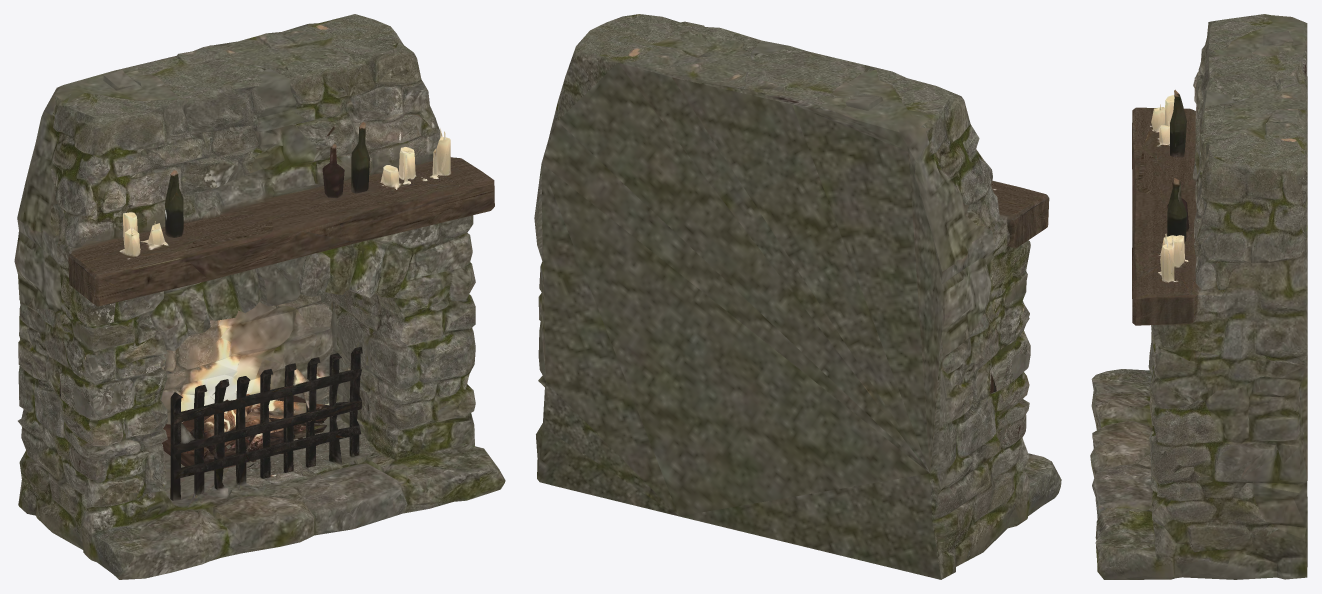
File: fp_webp.glb
The picture shows the model from 3 angles, left to right: view 1: azimuth 30°, elevation 25°; view 2: azimuth 150°, elevation 25°; view 3: azimuth 270°, elevation 25°; orthographic projection. The views are drawn at different scales.
Visible parts, largest first — view 1: Mesh_0; view 2: Mesh_0; view 3: Mesh_0.
Boxes of the visible parts, box(x1,y1,x2,y2) form: Mesh_0: box(14, 14, 505, 579); Mesh_0: box(534, 14, 1061, 579); Mesh_0: box(1090, 14, 1307, 579).
Bounding box in the file's own units: 1.9 × 1.9 × 0.9191.
1 material, 1 textured.
